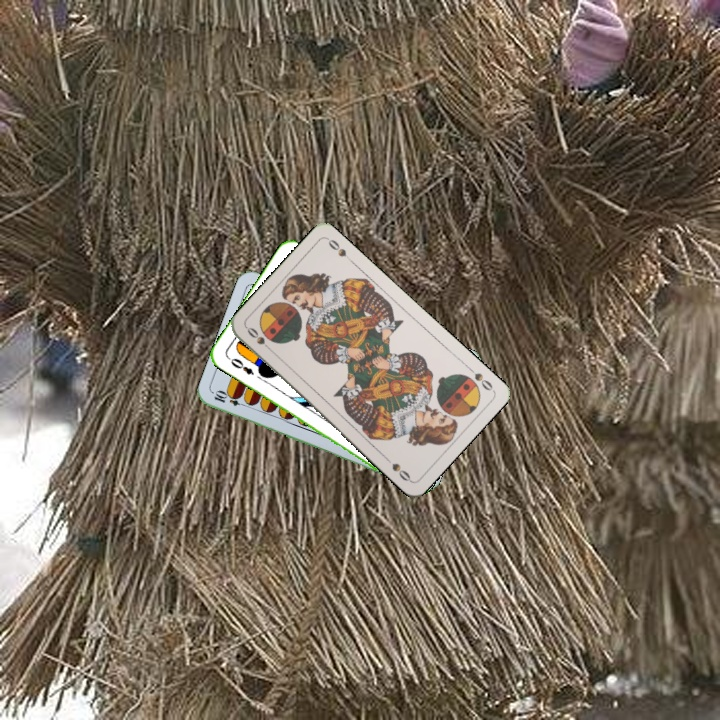E10: (210, 388, 250, 409)
EO: (223, 353, 257, 377)
SO: (243, 323, 275, 355), (463, 362, 496, 393)
